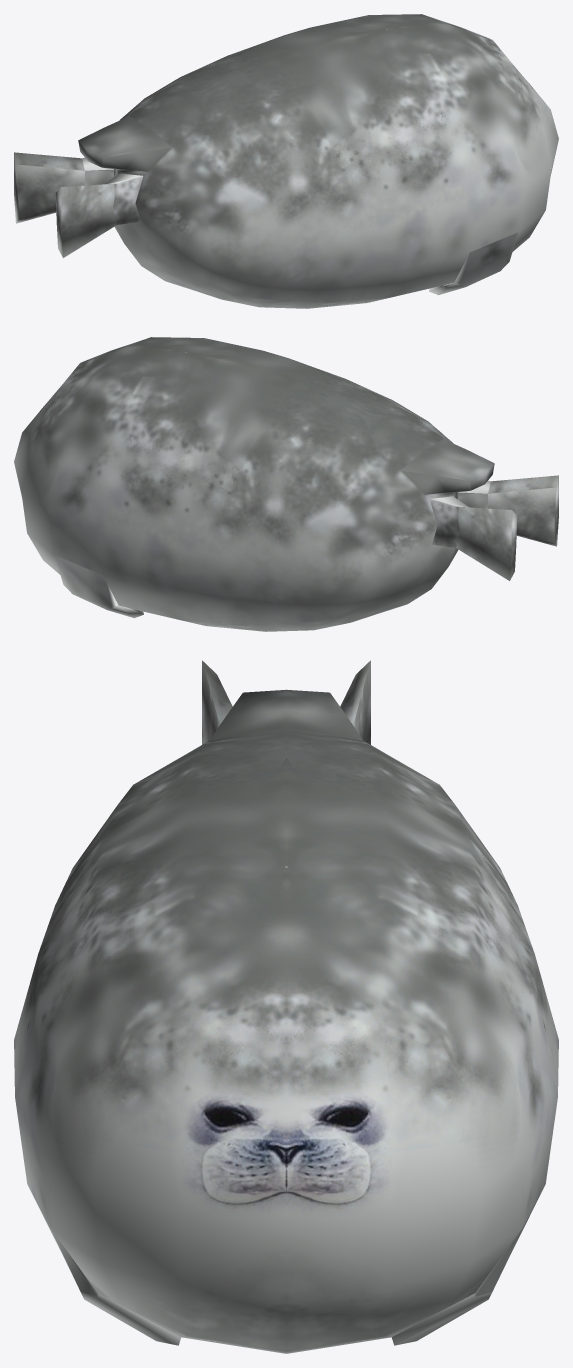
File: seal.fbx
The picture shows the model from 3 angles, top to bottom: view 1: azimuth 30°, elevation 25°; view 2: azimuth 150°, elevation 25°; view 3: azimuth 270°, elevation 25°; orthographic projection. The views are drawn at different scales.
Visible parts, largest first — view 1: sealplush; view 2: sealplush; view 3: sealplush.
Boxes of the visible parts, bbox=[...] form: sealplush: bbox=[14, 14, 558, 308]; sealplush: bbox=[14, 337, 558, 631]; sealplush: bbox=[14, 660, 558, 1353].
Bounding box in the file's own units: 87.78 × 41.5 × 46.2.
